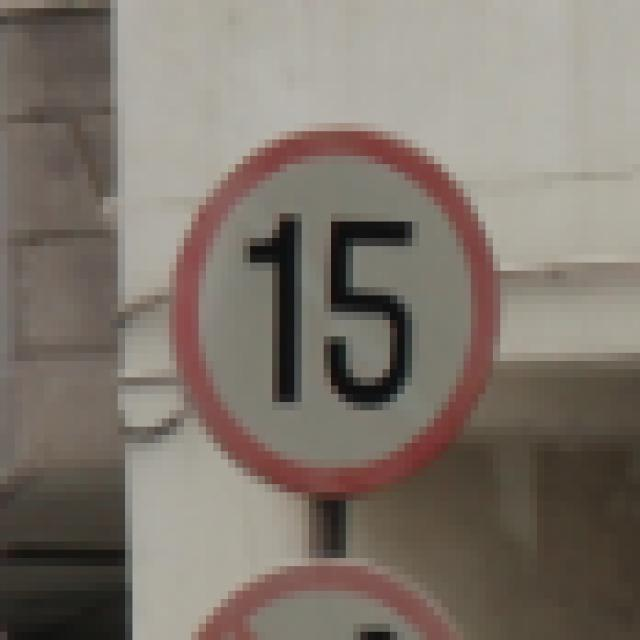Speed: (153, 92, 510, 525)
